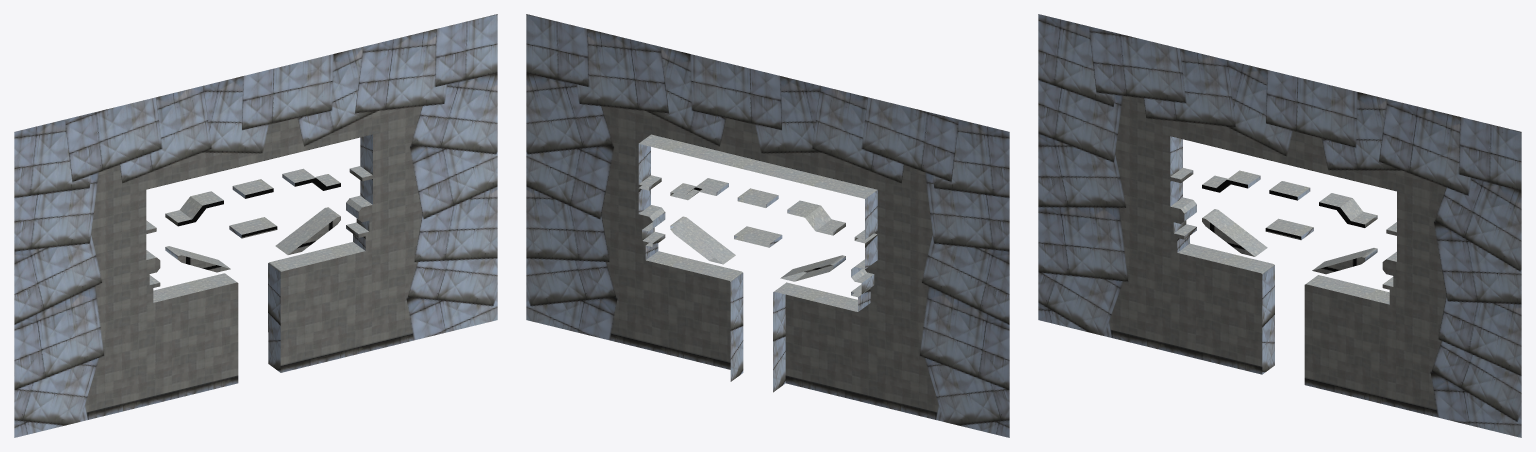
File: Airlock.fbx
3 renders of one model, left to right at view 1: azimuth 30°, elevation 25°; view 2: azimuth 150°, elevation 25°; view 3: azimuth 330°, elevation 25°, orthographic.
Visible parts, largest first — view 1: pCube9; view 2: pCube9; view 3: pCube9.
Part boxes in pixels (bbox=[...]): pCube9: bbox=[14, 14, 497, 437]; pCube9: bbox=[526, 14, 1009, 437]; pCube9: bbox=[1038, 14, 1521, 437].
Bounding box in the file's own units: 136 × 82.61 × 6.19.
